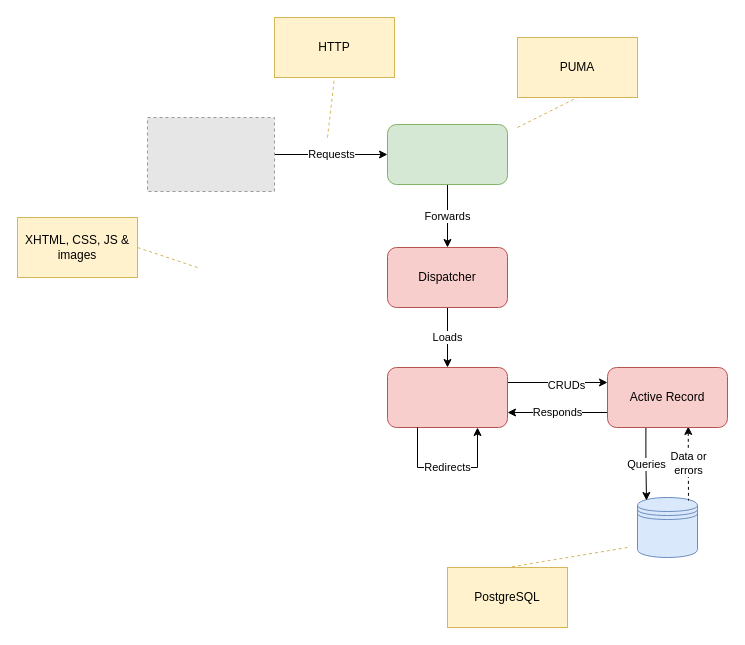
Image size: 745x645. Some labels were removed from this diagram. Grey dashed boxes stand in for pictures. Each missing label, with the centre of its shape:
Controller: the point at 447,397
Database: the point at 667,527
Web Server: the point at 447,154
